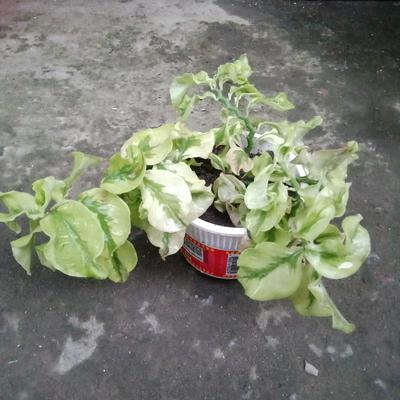Pothos plant: (82, 71, 363, 312)
